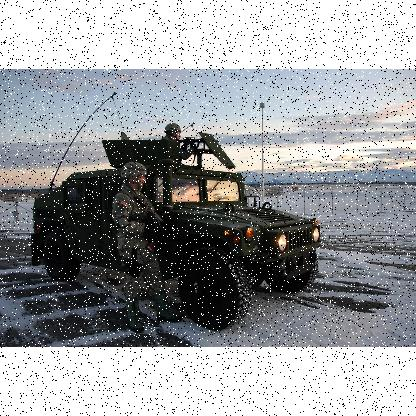gun: (180, 138, 218, 166)
